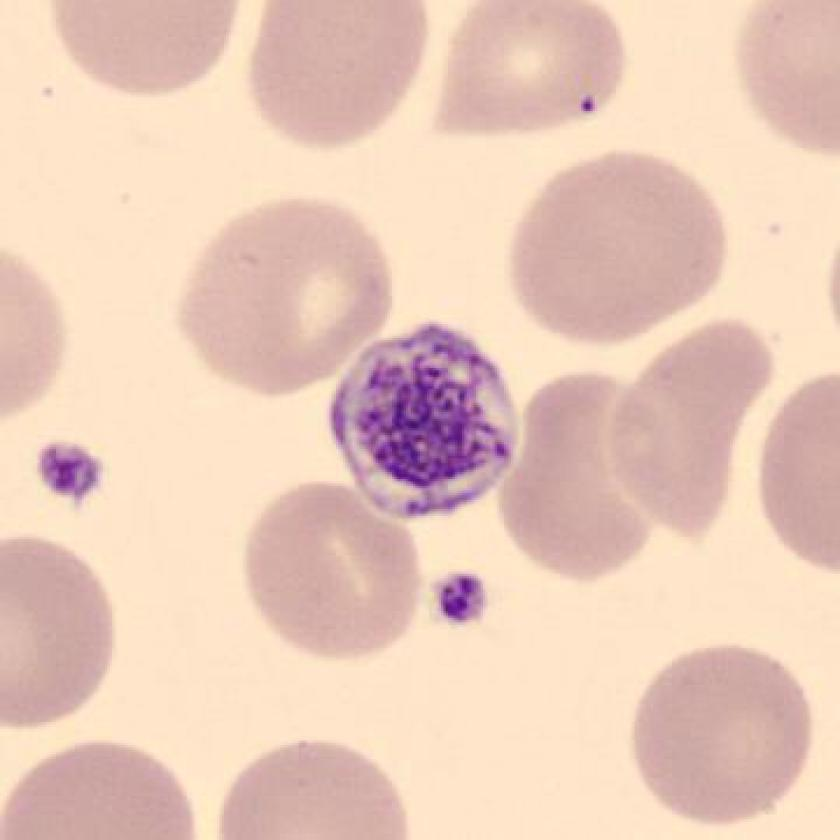platelets: (318, 318, 533, 529), (32, 432, 116, 510), (435, 566, 498, 637)
